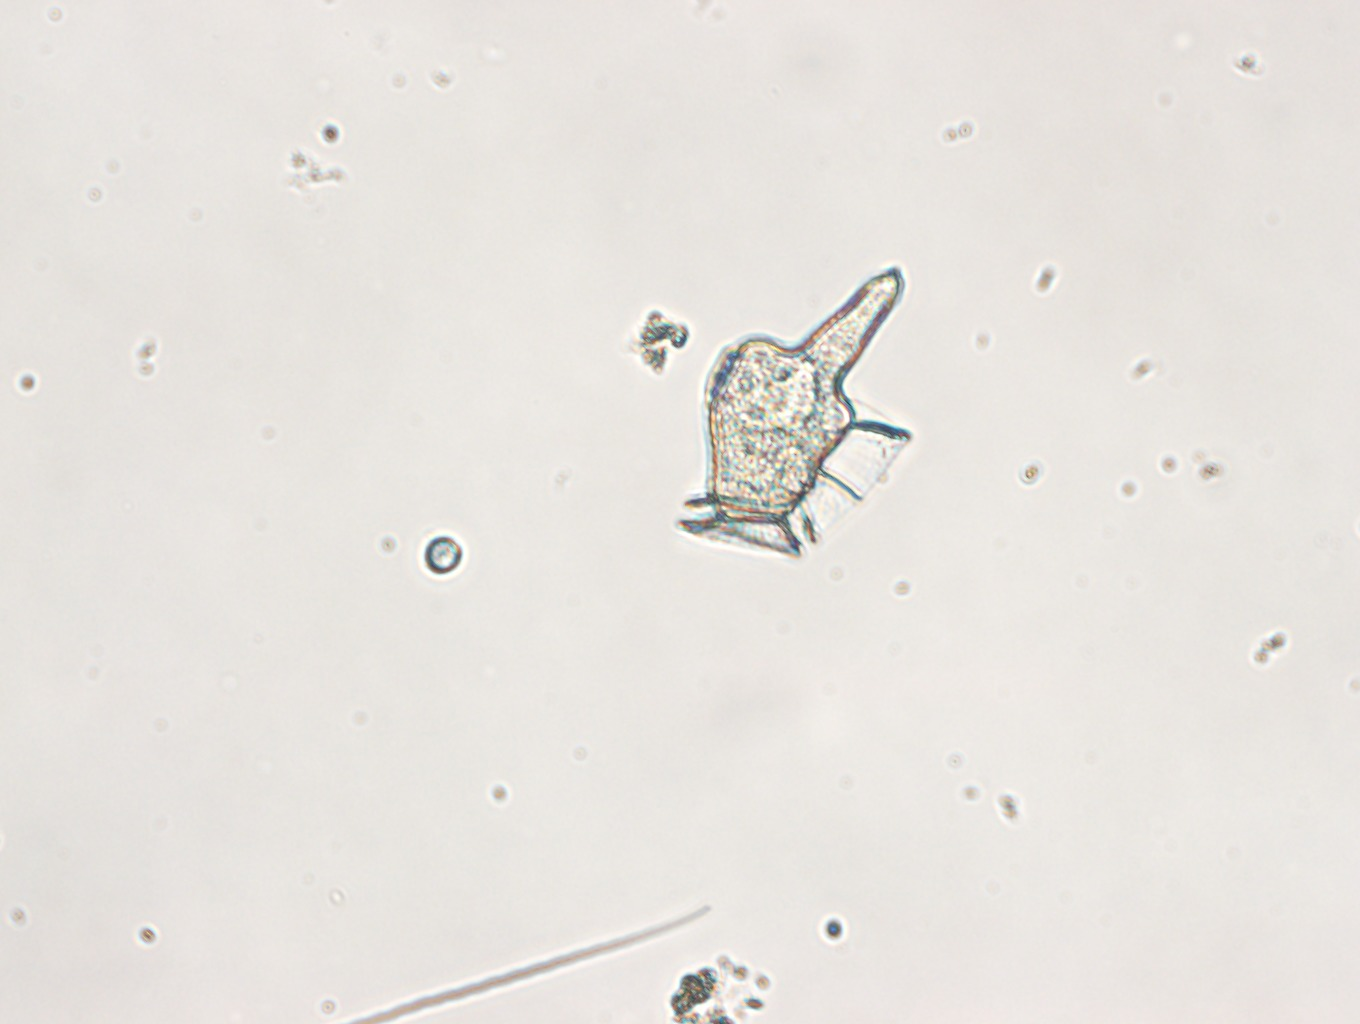dinophysis caudata: (669, 260, 918, 573)
